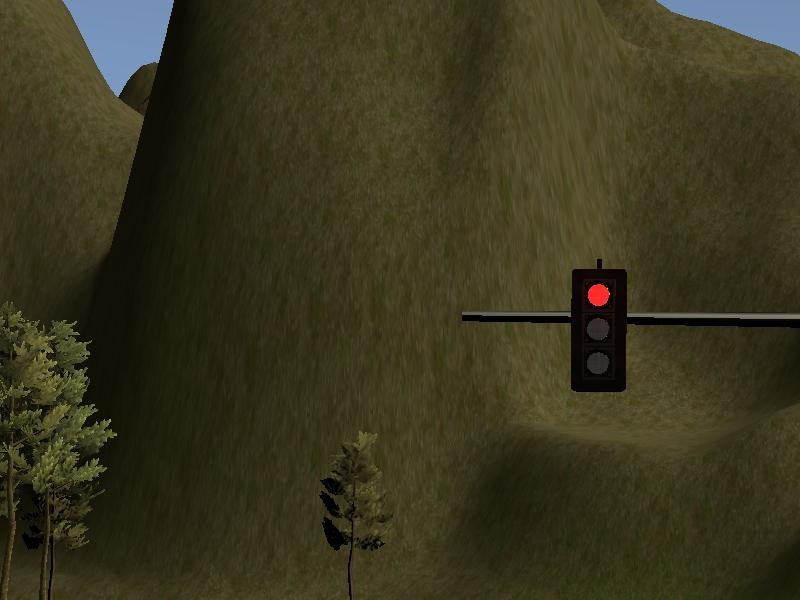RED: (571, 269, 627, 392)
